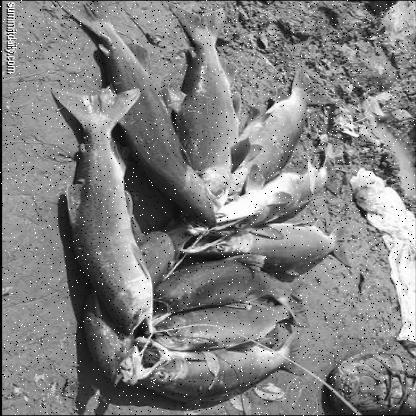fish: (59, 0, 223, 227), (51, 86, 157, 338), (213, 73, 328, 209), (166, 3, 240, 207), (126, 328, 308, 402), (201, 156, 337, 238), (180, 218, 348, 276), (154, 254, 304, 314), (150, 302, 312, 352)
